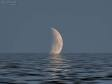moon: (45, 26, 63, 53)
